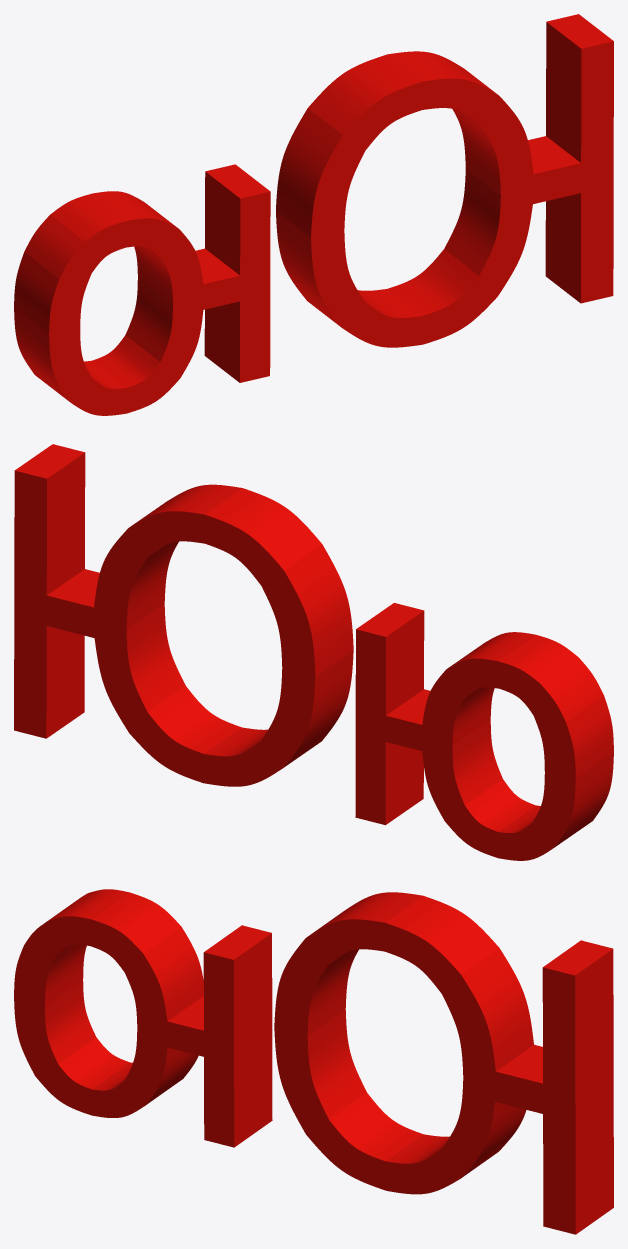
3 views of the same model, one above another, from view 1: azimuth 30°, elevation 25°; view 2: azimuth 150°, elevation 25°; view 3: azimuth 330°, elevation 25° (orthographic).
Visible parts, largest first — view 1: Mesh_0.035; view 2: Mesh_0.035; view 3: Mesh_0.035.
Boxes of the visible parts, x1,y1,x2,y2 form: Mesh_0.035: [14, 14, 613, 415]; Mesh_0.035: [14, 444, 613, 860]; Mesh_0.035: [14, 889, 613, 1234].
Size of the model in its own units: 16.43 by 7.41 by 2.19.
